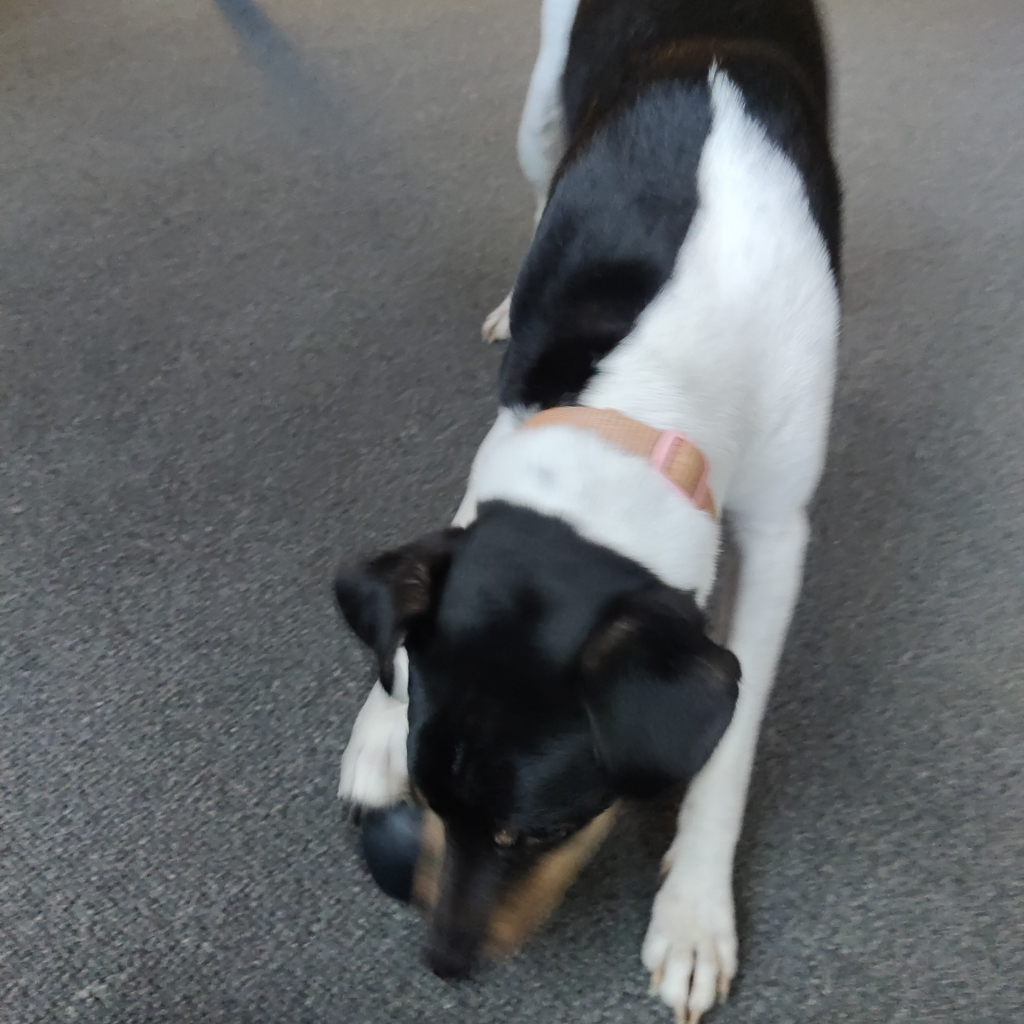Dog: (298, 0, 887, 1024)
